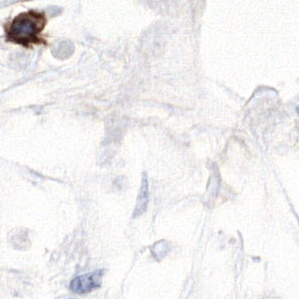Lymphocyte: (6, 9, 46, 46)
